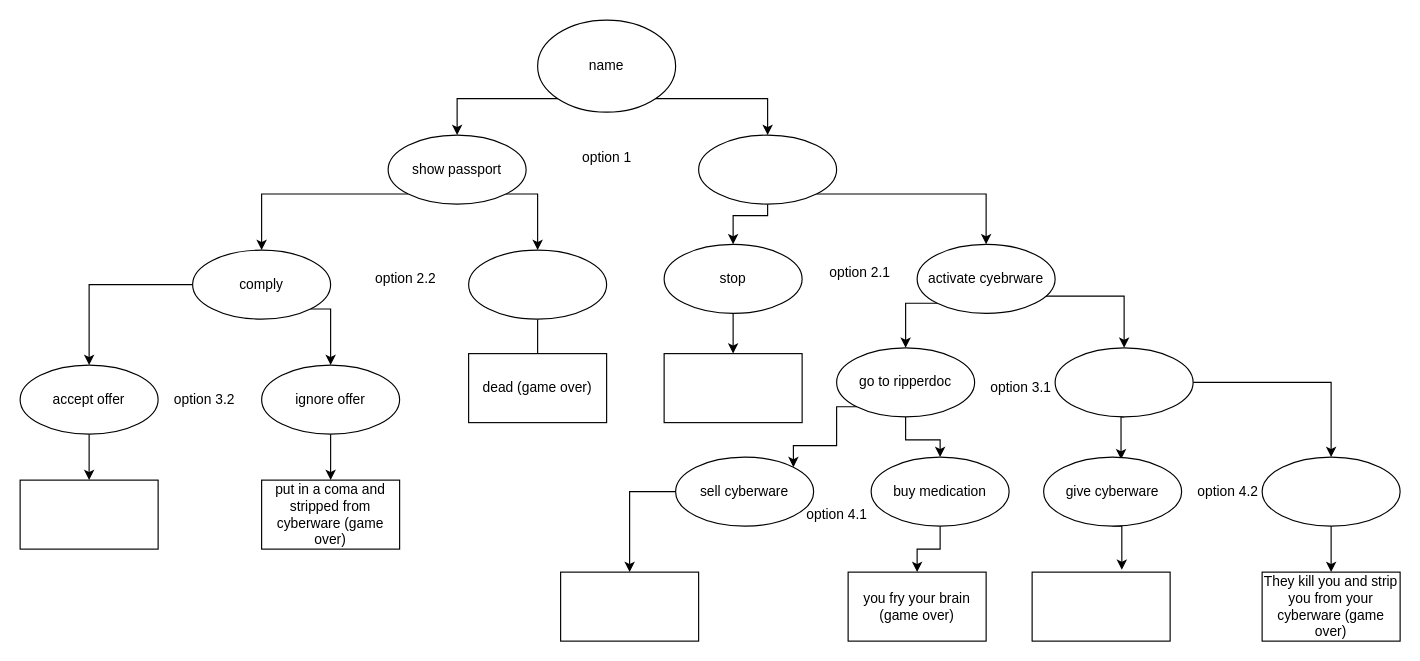
Image size: 1420x661. Some labels were removed from this diagram. Here are the shapes that lost their labels. From the top down, the centre of each, then its label:
At [767,169]: "sneak through boarder".
At [537,284]: "run".
At [732,387]: "go to prison (game over)".
At [1123,382]: "find a gang".
At [1330,491]: "decline offer".
At [88,514]: "greencard and job (game over)".
At [629,606]: "earn enough to get you set up in night city (game over)".
At [1100,606]: "they take your cyberware and you become a member of the gang (game over)".
